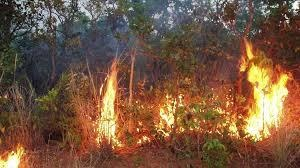fire: (232, 37, 292, 141), (94, 60, 123, 149)
